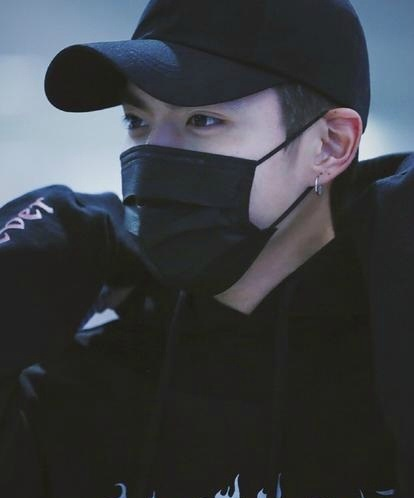face_mask: (120, 39, 282, 286)
